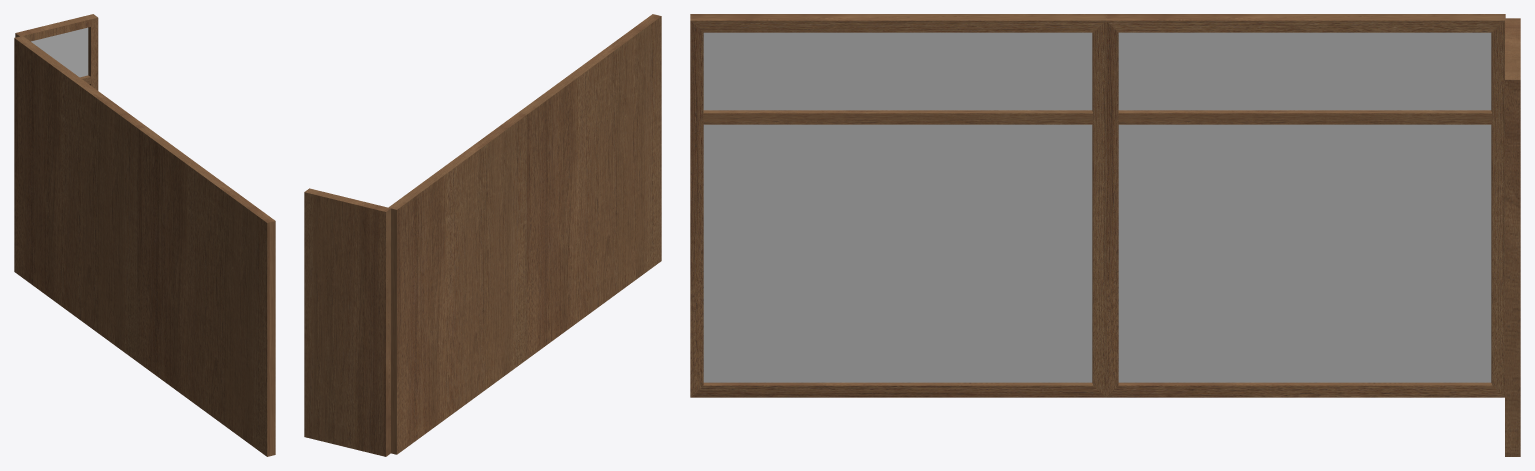
File: Wall 2.FBX
3 renders of one model, left to right at view 1: azimuth 30°, elevation 25°; view 2: azimuth 150°, elevation 25°; view 3: azimuth 270°, elevation 25°, orthographic. The views are drawn at different scales.
Parts seen in each view (by area): view 1: wall 2; view 2: wall 2; view 3: wall 2.
Boxes of the visible parts, x1=… form: wall 2: x1=14, y1=14, x2=275, y2=456; wall 2: x1=304, y1=14, x2=661, y2=456; wall 2: x1=690, y1=14, x2=1520, y2=456.
Size of the model in its own units: 100 by 268 by 535.
